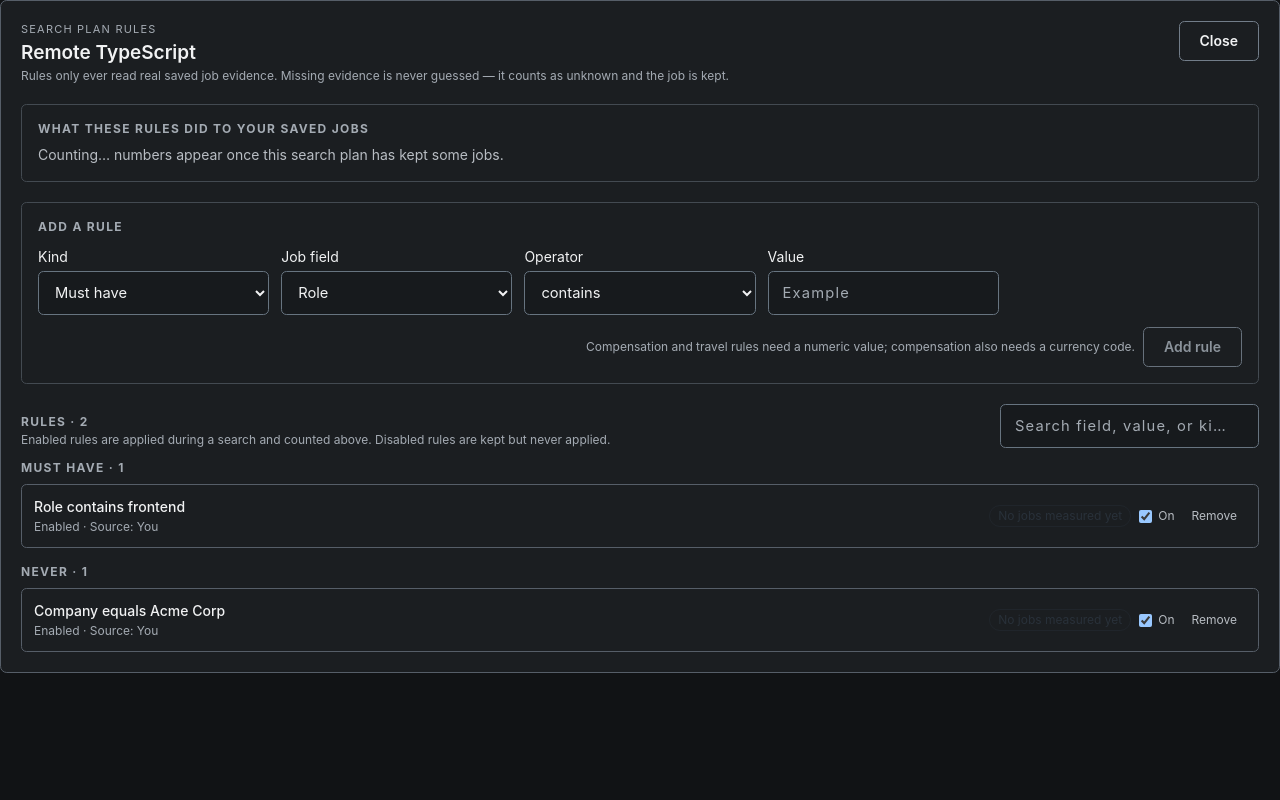
Test case: CampaignRuleBuilder › searches rules by field, value, or kind and shows a no-match state
In the search field named "Search rules": (1130, 426) [1000, 404, 1259, 448], type "acme"
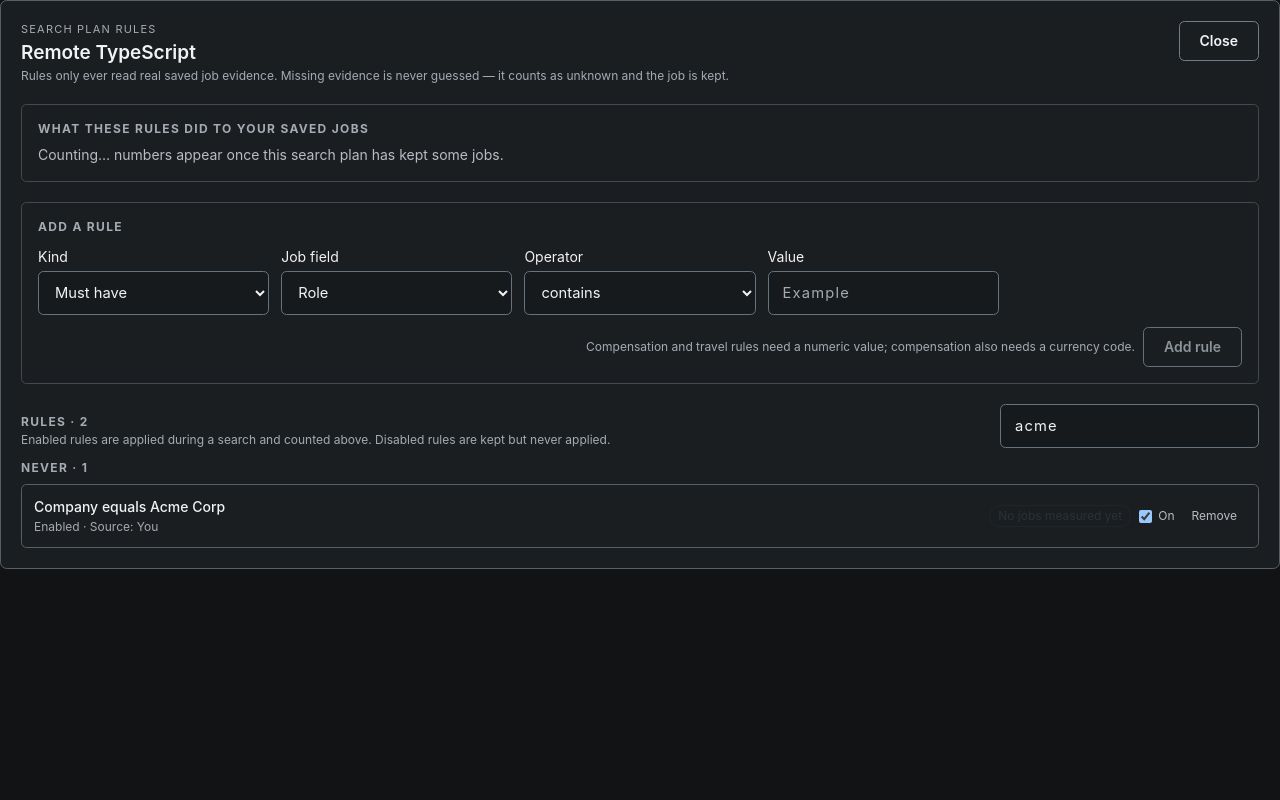
Check: the text "Company equals Acme Corp" is shown, box [34, 497, 225, 517]
Check: the text "Role contains frontend" is gone
Replace the text in the search field named "Search rules" with "no such rule": (1130, 426) [1000, 404, 1259, 448]
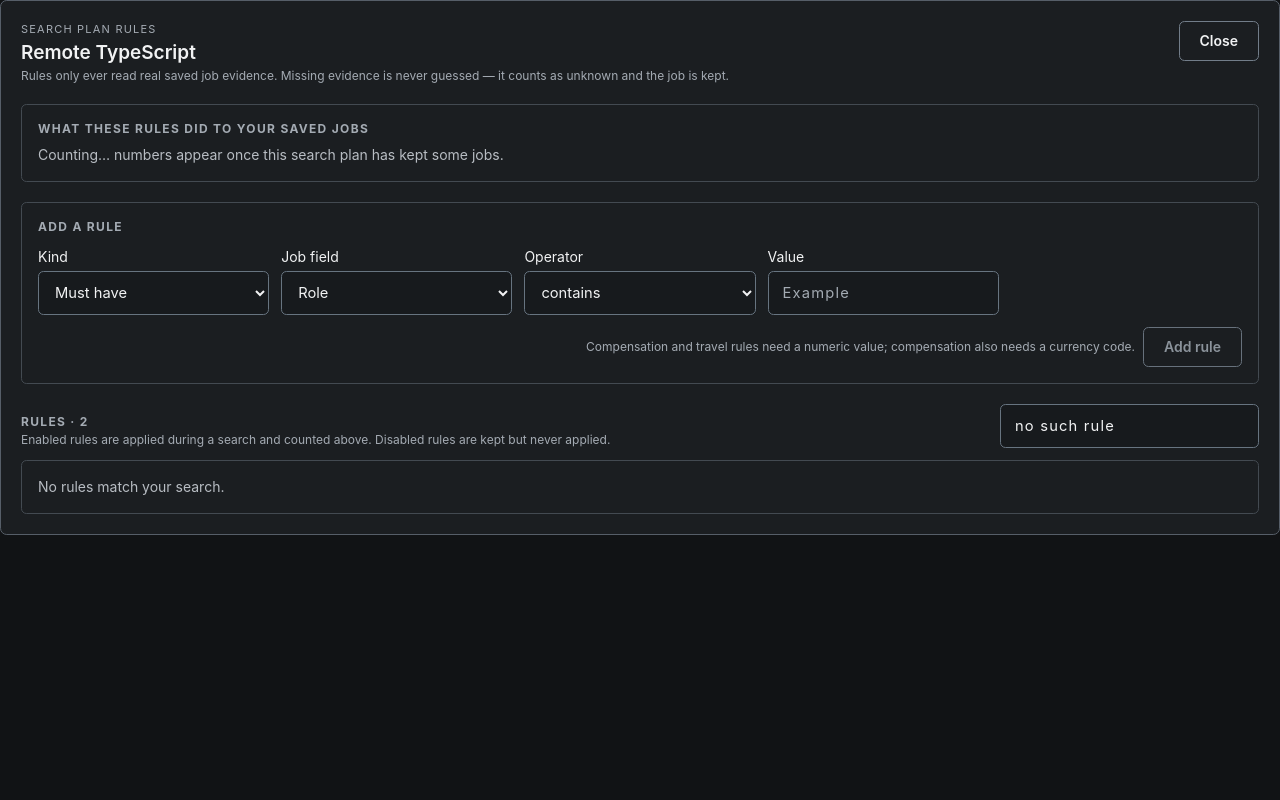
Check: the text "No rules match your search." is shown, box [21, 460, 1259, 514]
